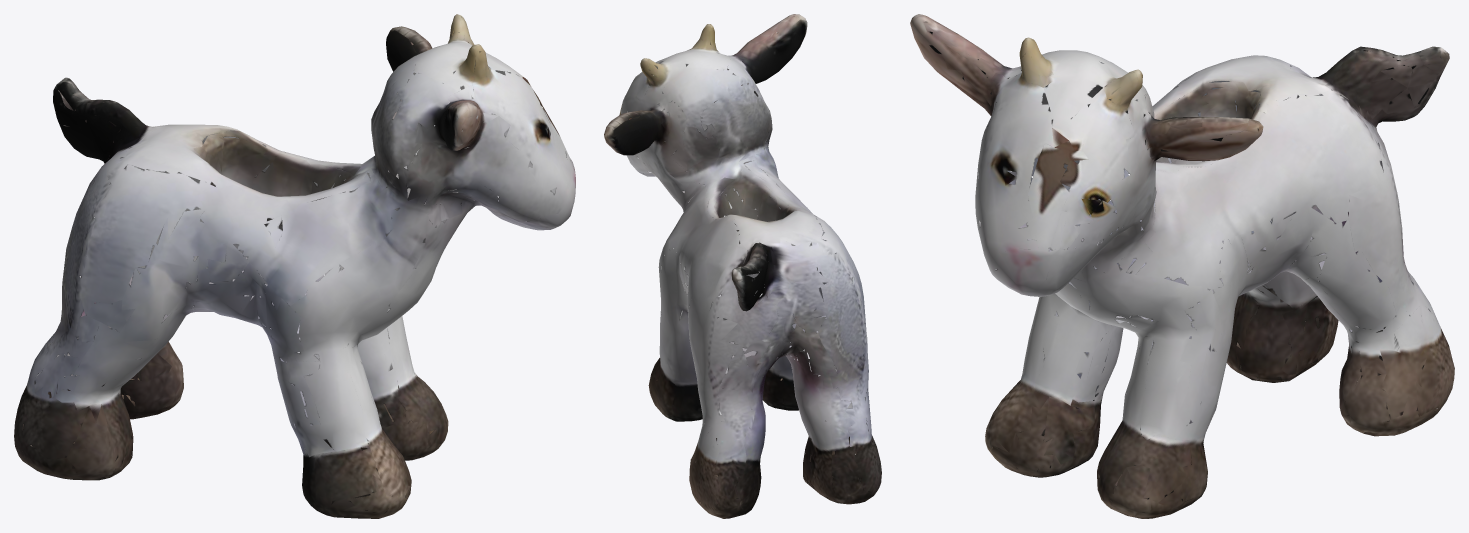
The model's file is Sheep.fbx.
3 renders of one model, left to right at view 1: azimuth 30°, elevation 25°; view 2: azimuth 150°, elevation 25°; view 3: azimuth 270°, elevation 25°, orthographic. The views are drawn at different scales.
Parts seen in each view (by area): view 1: tripo_4bdf2f19-4b50-4b58-bf08-b0b176cfcc92; view 2: tripo_4bdf2f19-4b50-4b58-bf08-b0b176cfcc92; view 3: tripo_4bdf2f19-4b50-4b58-bf08-b0b176cfcc92.
Boxes of the visible parts, x1,y1,x2,y2 form: tripo_4bdf2f19-4b50-4b58-bf08-b0b176cfcc92: (14, 14, 575, 518); tripo_4bdf2f19-4b50-4b58-bf08-b0b176cfcc92: (604, 14, 881, 518); tripo_4bdf2f19-4b50-4b58-bf08-b0b176cfcc92: (910, 14, 1454, 518).
Size of the model in its own units: 73.8 by 72.04 by 72.94.
1 material, 1 textured.
